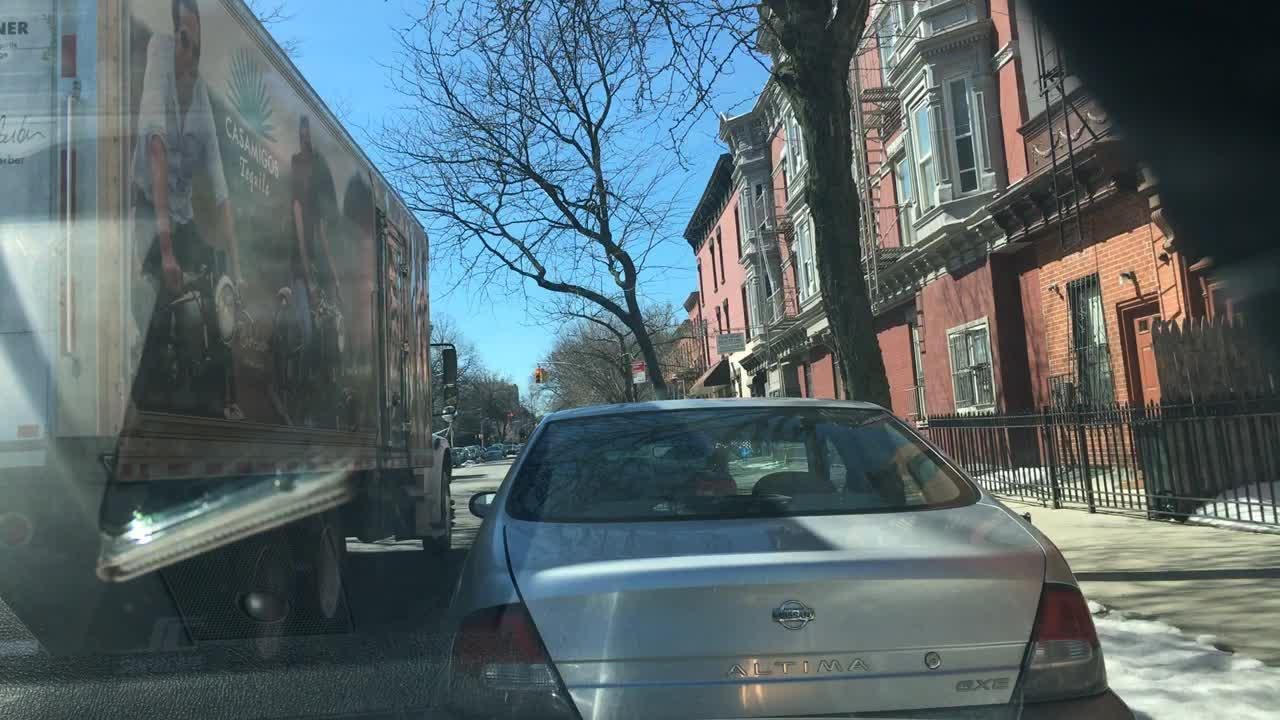Nissan: (767, 592, 821, 640)
